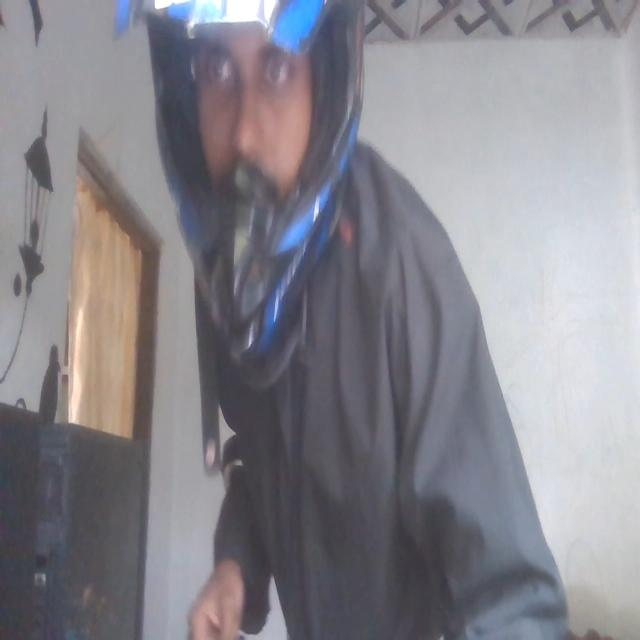Helmet_Wearer: (121, 0, 379, 338)
Jacket_Wearer: (174, 123, 576, 638)
Person: (124, 0, 564, 640)
